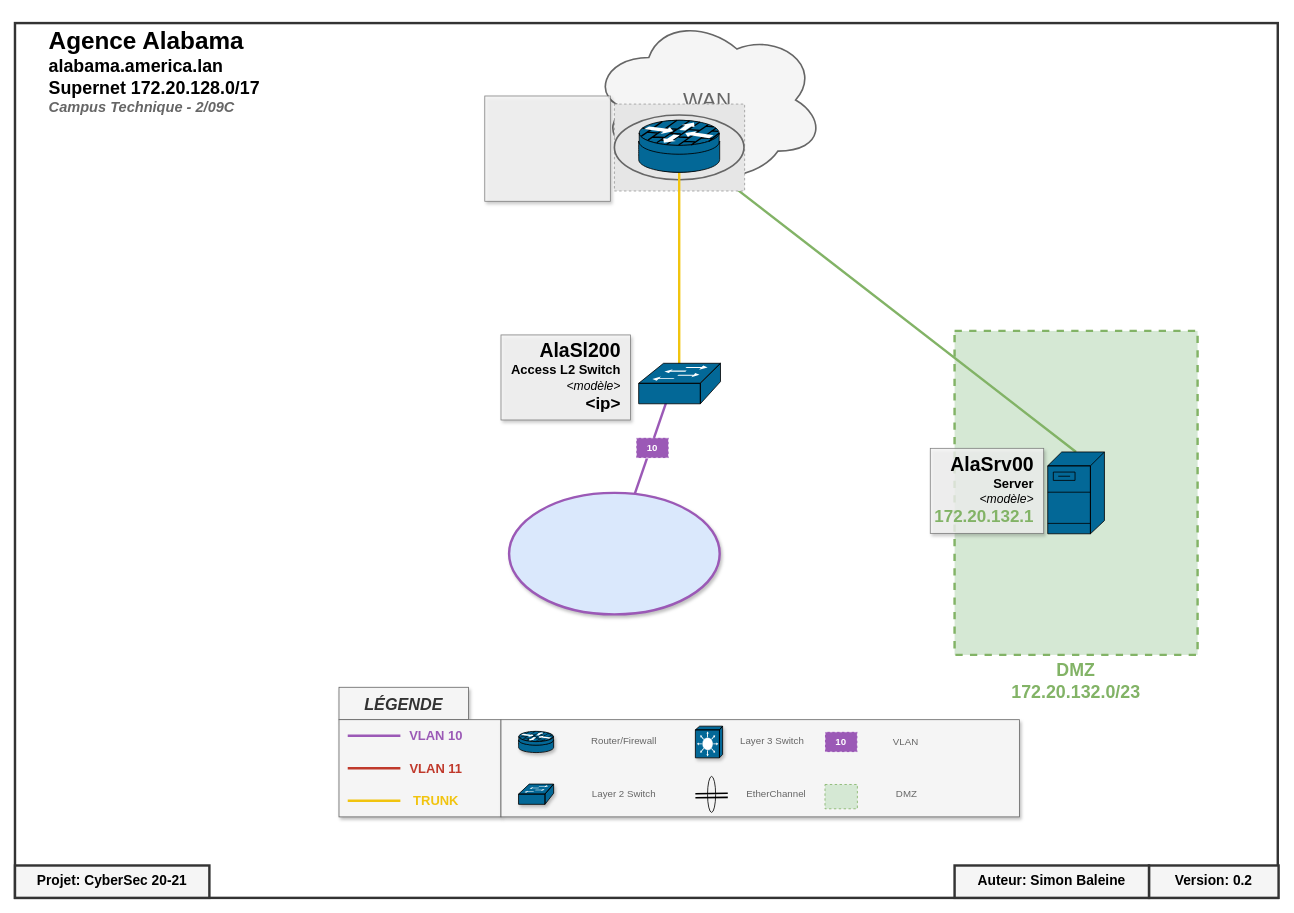
Some shapes in this 1294 by 913 pixel diagram are drawn without their labels. Grey dashed boxes stand in for pictures. Each missing label, with the centre of its shape:
"AlaRot00 Router/Firewall <modèle> 172.20.129.254 172.20.131.254 172.20.133.254" goes at (x=548, y=149).
"VLAN 10 172.20.128.0/23" goes at (x=614, y=554).
